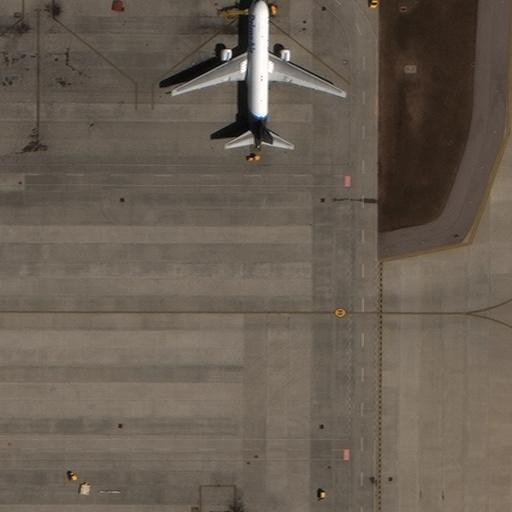Large Civil Transport: (170, 0, 346, 149)
